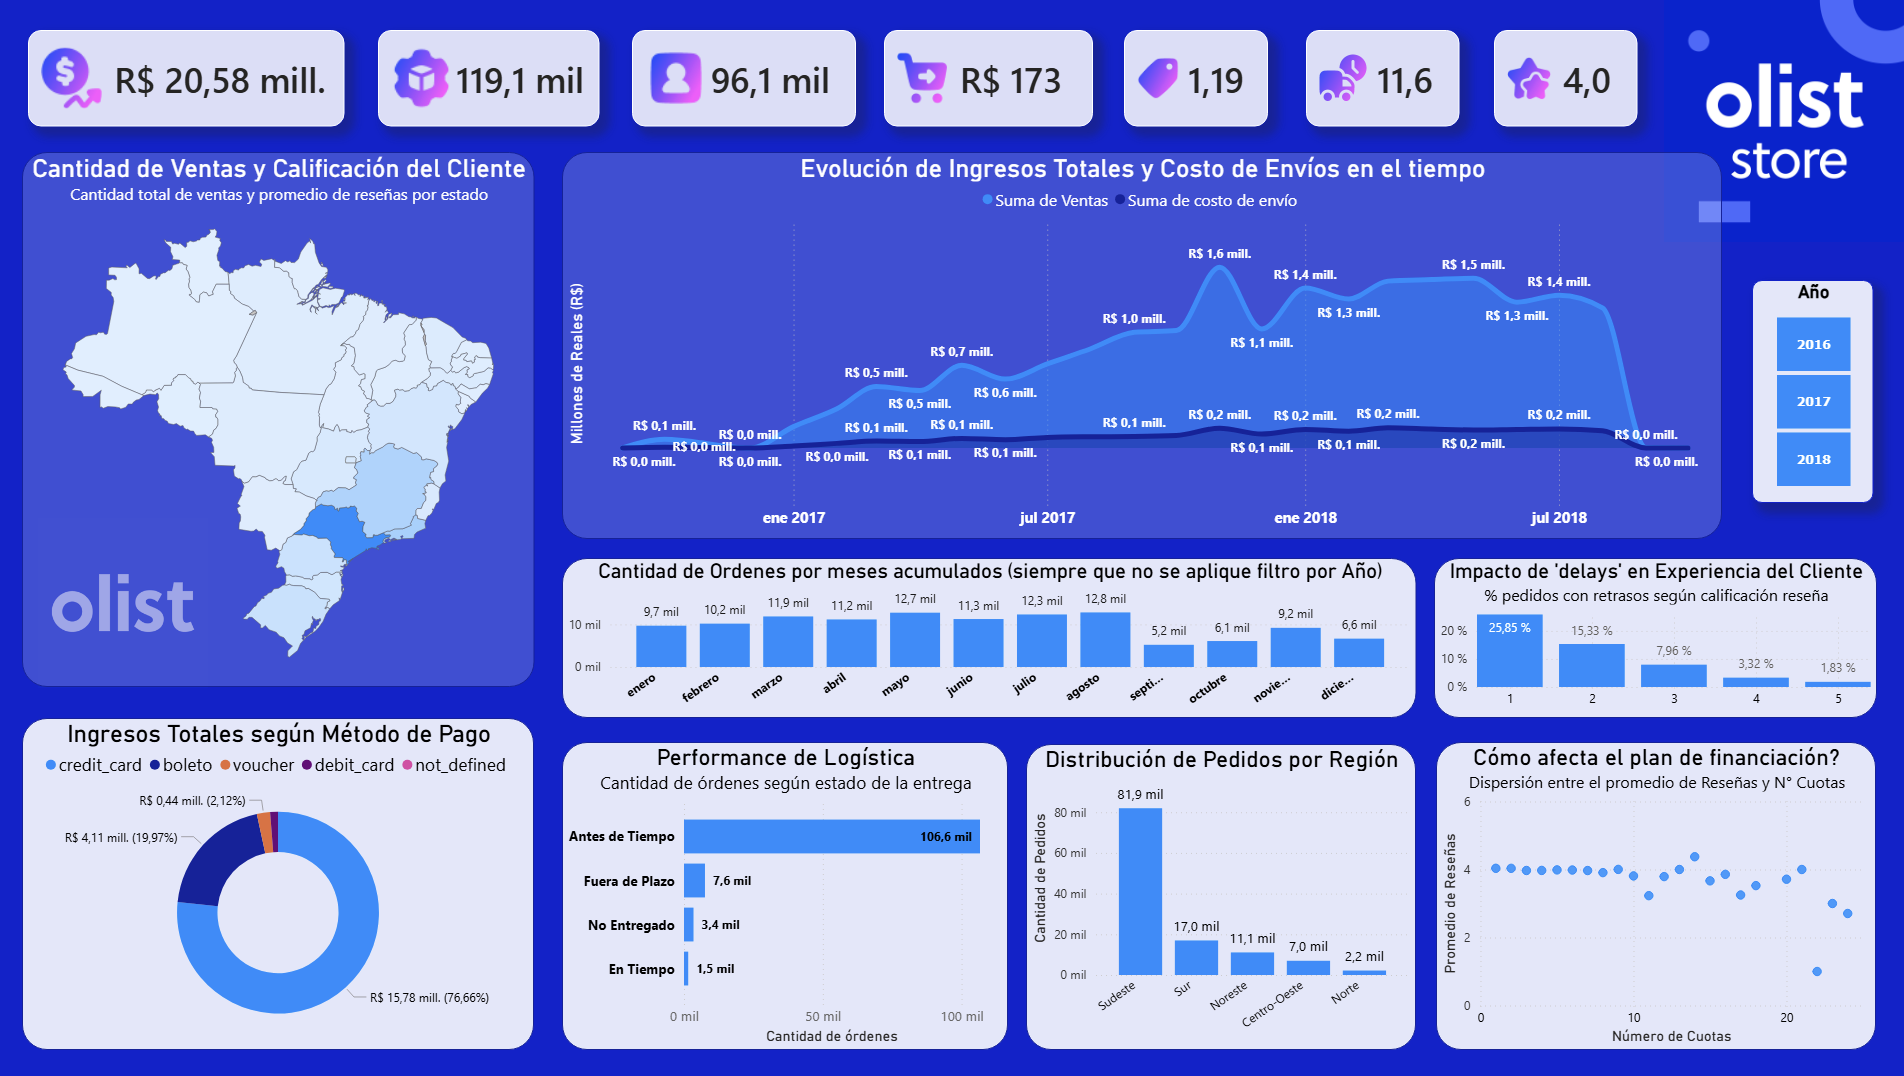

What the dashboard file says about the page in this screenshot:
{"tool":"powerbi","page":{"name":"Página 1","canvas":[1920,1080],"ordinal":0},"visuals":[{"type":"image","box":[17.5,517.5,237.5,170],"z":0},{"type":"image","box":[1676,0,246,242],"z":1000},{"type":"areaChart","title":"Evolución de Ingresos Totales y Costo de Envíos en el tiempo","fields":{"Y":["Sum(eda-for-dashboard.payment_value)","Sum(eda-for-dashboard.freight_value)"],"Category":["eda-for-dashboard.order_purchase_timestamp.Variación.Jerarquía de fechas.Año","eda-for-dashboard.order_purchase_timestamp.Variación.Jerarquía de fechas.Mes"]},"box":[575.7,152.9,1160,387.1],"z":2000},{"type":"cardVisual","fields":{"Data":["Medidas Rentabilidad.Ticket Promedio"]},"box":[898.8,30,208.8,96.2],"z":3000},{"type":"cardVisual","fields":{"Data":["Medidas Rentabilidad.Total Pedidos"]},"box":[391.2,30,221.2,96.2],"z":4000},{"type":"donutChart","title":"Ingresos Totales según Método de Pago","fields":{"Category":["eda-for-dashboard.payment_type"],"Y":["Medidas Rentabilidad.Ingresos Totales"]},"box":[36,718,512,332],"z":5000},{"type":"columnChart","title":"Distribución de Pedidos por Región","fields":{"Y":["CountNonNull(eda-for-dashboard.order_id)"],"Category":["eda-for-dashboard.region"]},"box":[1040,744,390,306],"z":6000},{"type":"cardVisual","title":"Ingresos Totales","fields":{"Data":["Medidas Rentabilidad.Ingresos Totales"]},"box":[41.7,30,316.7,96.7],"z":7000},{"type":"cardVisual","fields":{"Data":["Medidas Performance.Días de Entrega Promedio"]},"box":[1320,30,153.3,96.7],"z":8000},{"type":"clusteredBarChart","title":"Performance de Logística","fields":{"Category":["eda-for-dashboard.entrega_status"],"Y":["CountNonNull(eda-for-dashboard.order_id)"]},"box":[576,742,446,308],"z":9000},{"type":"cardVisual","fields":{"Data":["Medidas Performance.Promedio Reviews"]},"box":[1508.3,30,143.3,96.7],"z":10000},{"type":"scatterChart","title":"Cómo afecta el plan de financiación?","fields":{"Y":["eda-for-dashboard.review_score"],"X":["eda-for-dashboard.payment_installments"]},"box":[1450,742,440,308],"z":11000},{"type":"columnChart","title":"Cantidad de Ordenes por meses acumulados (siempre que no se aplique filtro por Año)","fields":{"Category":["eda-for-dashboard.order_purchase_timestamp.Variación.Jerarquía de fechas.Mes"],"Y":["CountNonNull(eda-for-dashboard.order_id)"]},"box":[575.7,558.6,854.3,160],"z":12000},{"type":"cardVisual","fields":{"Data":["Medidas Rentabilidad.Cantidad Clientes"]},"box":[645,30,223.8,96.2],"z":13000},{"type":"shapeMap","title":"Cantidad de Ventas y Calificación del Cliente","fields":{"Value":["CountNonNull(eda-for-dashboard.payment_value)"],"Category":["eda-for-dashboard.customer_state_full"]},"box":[35,152.5,512.5,535],"z":14000},{"type":"cardVisual","title":"Promedio Artículos","fields":{"Data":["Medidas Performance.Promedio Articulos x Compra"]},"box":[1138.8,30,143.8,96.2],"z":15000},{"type":"slicer","title":"Año","fields":{"Values":["eda-for-dashboard.order_purchase_timestamp.Variación.Jerarquía de fechas.Año"]},"box":[1765.7,280,121.4,222.9],"z":16000},{"type":"columnChart","title":"Impacto de ''delays'' en Experiencia del Cliente","fields":{"Category":["eda-for-dashboard.review_score"],"Y":["Medidas Performance.% Pedidos con Delay"]},"box":[1447.1,558.6,442.9,160],"z":17000}]}

Visuals, with their boxes in screenshot pixels (x1, y1, x2, y2), scaled from the page's 1920x1080 canvas onto the 1904x1076 screenshot:
image: crop(17, 516, 253, 685)
image: crop(1662, 0, 1903, 241)
"Evolución de Ingresos Totales y Costo de Envíos en el tiempo" areaChart: crop(571, 152, 1721, 538)
cardVisual - Medidas Rentabilidad.Ticket Promedio: crop(891, 30, 1098, 126)
cardVisual - Medidas Rentabilidad.Total Pedidos: crop(388, 30, 607, 126)
"Ingresos Totales según Método de Pago" donutChart: crop(36, 715, 543, 1046)
"Distribución de Pedidos por Región" columnChart: crop(1031, 741, 1418, 1046)
"Ingresos Totales" cardVisual: crop(41, 30, 355, 126)
cardVisual - Medidas Performance.Días de Entrega Promedio: crop(1309, 30, 1461, 126)
"Performance de Logística" clusteredBarChart: crop(571, 739, 1013, 1046)
cardVisual - Medidas Performance.Promedio Reviews: crop(1496, 30, 1638, 126)
"Cómo afecta el plan de financiación?" scatterChart: crop(1438, 739, 1874, 1046)
"Cantidad de Ordenes por meses acumulados (siempre que no se aplique filtro por Año)" columnChart: crop(571, 557, 1418, 716)
cardVisual - Medidas Rentabilidad.Cantidad Clientes: crop(640, 30, 862, 126)
"Cantidad de Ventas y Calificación del Cliente" shapeMap: crop(35, 152, 543, 685)
"Promedio Artículos" cardVisual: crop(1129, 30, 1272, 126)
"Año" slicer: crop(1751, 279, 1871, 501)
"Impacto de ''delays'' en Experiencia del Cliente" columnChart: crop(1435, 557, 1874, 716)
